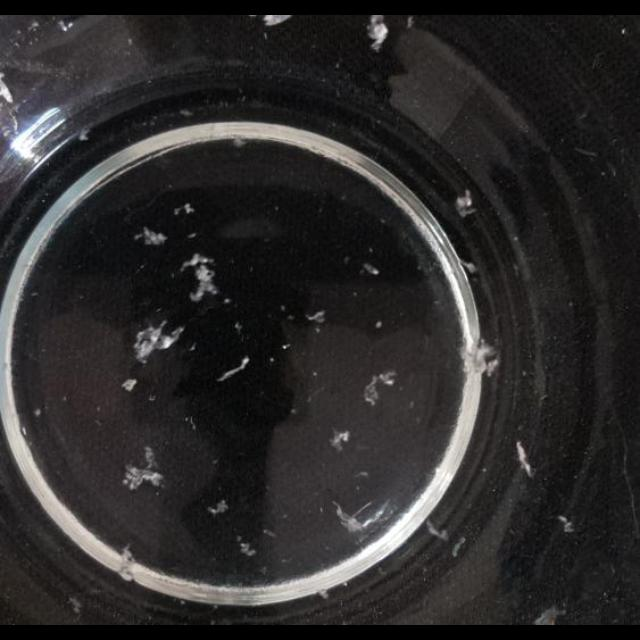Fibre: (333, 499, 403, 541), (180, 252, 222, 304), (136, 324, 188, 364), (125, 442, 163, 491), (466, 336, 502, 378), (362, 370, 398, 406), (365, 15, 389, 51), (218, 355, 250, 381), (116, 546, 140, 580), (528, 604, 562, 626), (516, 442, 536, 478), (136, 226, 168, 248), (426, 518, 449, 542), (454, 190, 474, 217), (329, 427, 351, 451), (209, 496, 233, 516), (0, 72, 14, 106), (556, 514, 576, 534), (262, 16, 294, 27), (378, 369, 398, 386), (172, 204, 194, 218), (304, 310, 326, 324), (452, 536, 466, 558), (238, 542, 256, 558), (66, 596, 82, 614), (460, 258, 478, 274), (362, 263, 381, 277), (121, 378, 137, 392), (317, 590, 329, 600), (234, 322, 244, 333), (33, 407, 41, 417), (374, 320, 382, 330)
